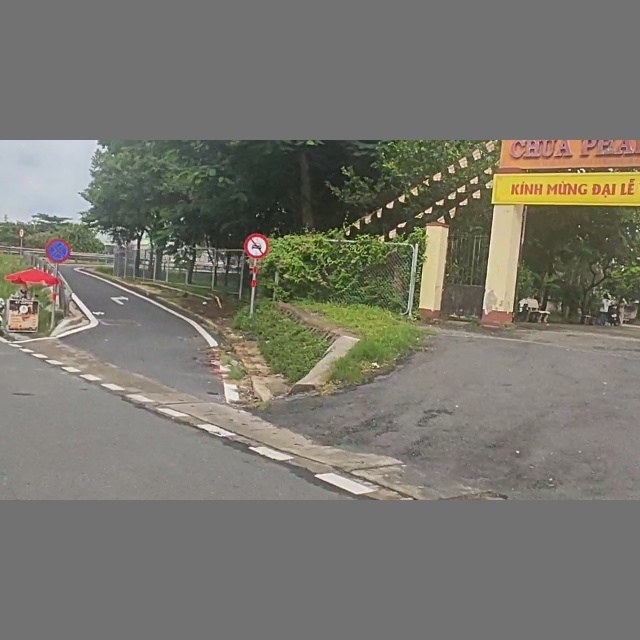P.103a: (242, 233, 270, 260)
P.130: (45, 237, 71, 264)
